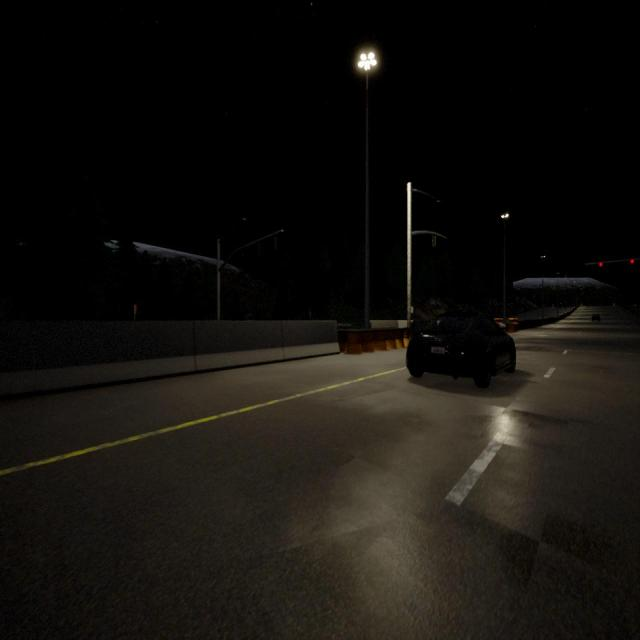Vehicle: (406, 314, 516, 388), (592, 314, 600, 322)
traffic_light: (274, 235, 278, 251), (257, 242, 261, 257), (432, 234, 436, 247), (630, 258, 634, 264), (599, 262, 603, 267), (242, 248, 244, 256)
